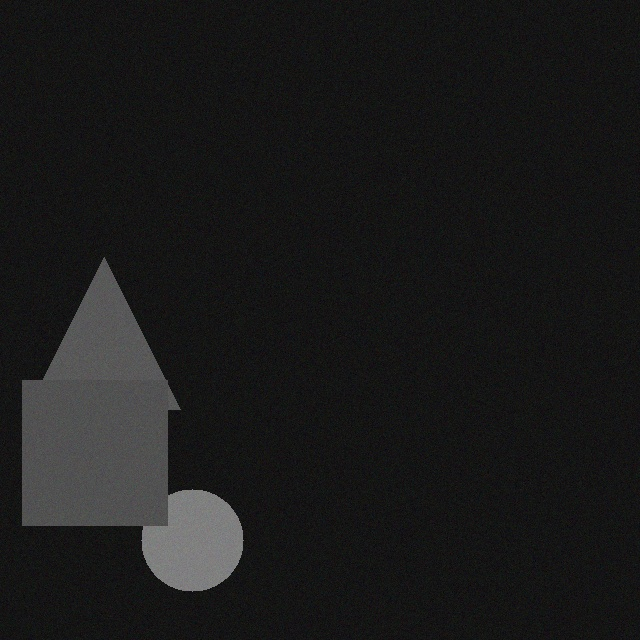circle: (143, 500, 245, 602)
square: (24, 391, 169, 536)
triangle: (30, 268, 182, 420)
